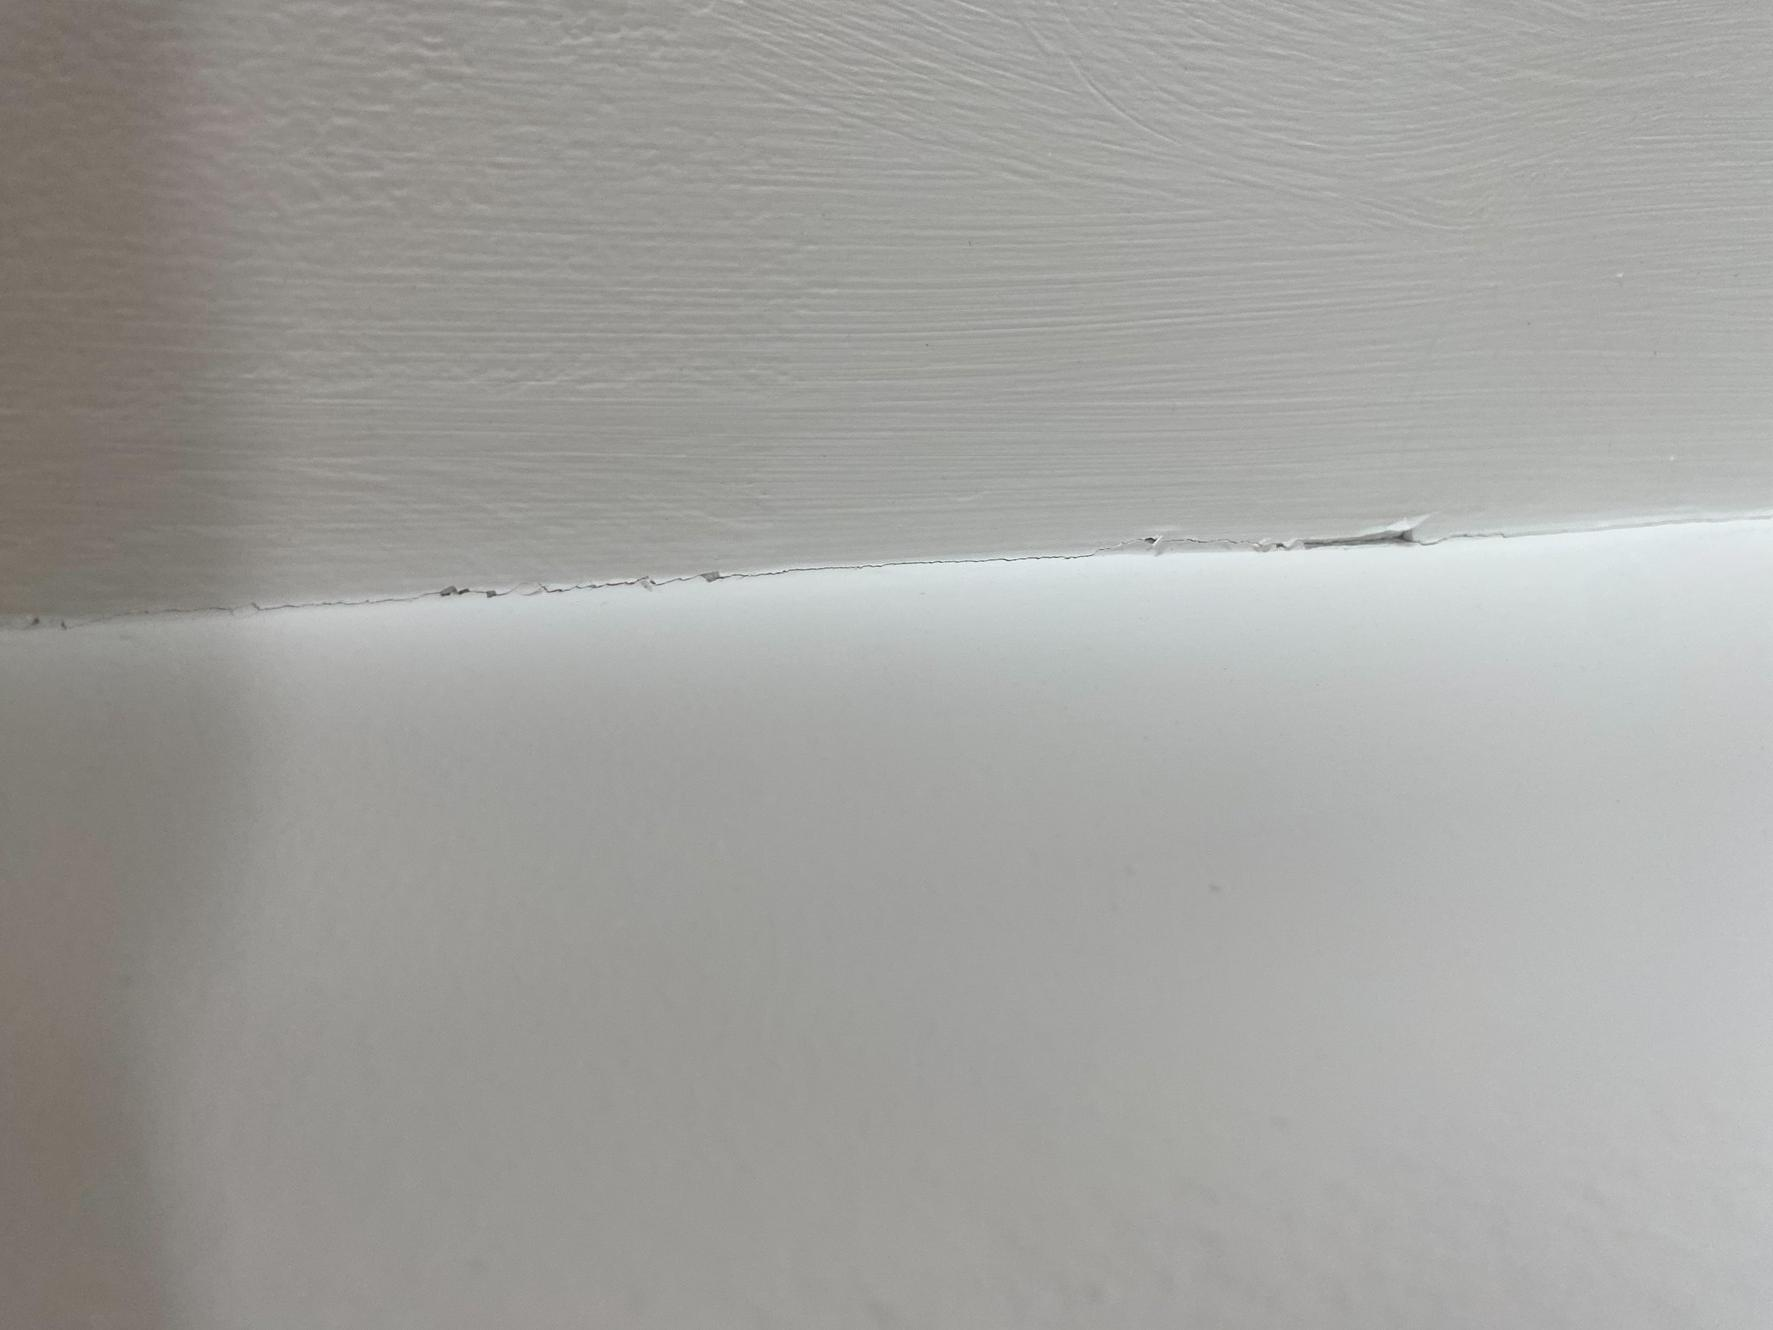Low: (1, 504, 1763, 608)
